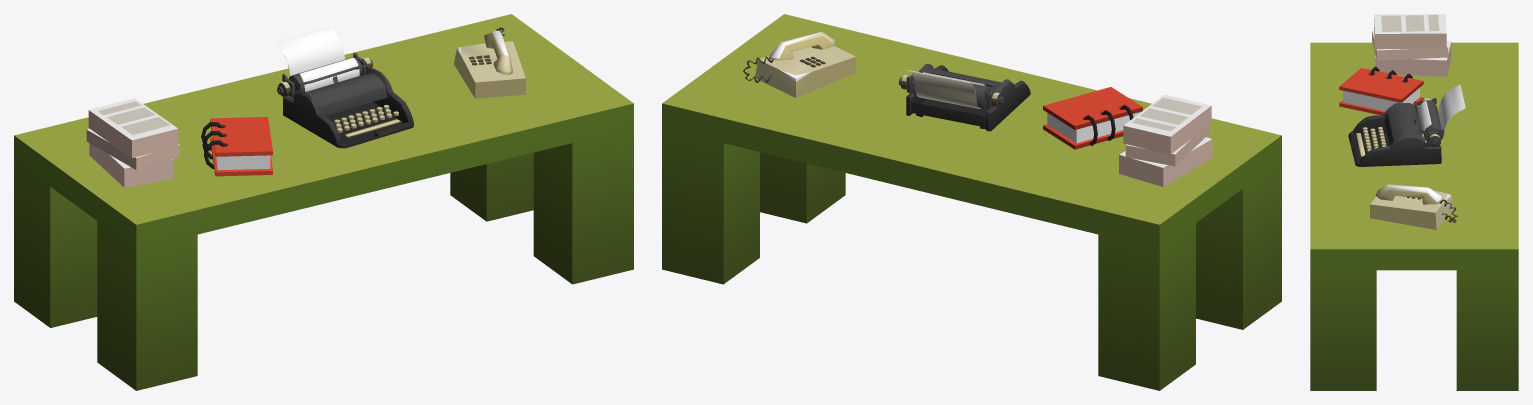
Rendered from Reception.fbx.
The picture shows the model from 3 angles, left to right: view 1: azimuth 30°, elevation 25°; view 2: azimuth 150°, elevation 25°; view 3: azimuth 270°, elevation 25°; orthographic projection. The views are drawn at different scales.
Visible parts, largest first — view 1: Table, TypeWritter, Papers, Book, Phone; view 2: Table, Papers, TypeWritter, Phone, Book; view 3: Table, TypeWritter, Papers, Phone, Book.
Part boxes in pixels (left/top/right/bottom): Table: left=14, top=14, right=633, bottom=390; TypeWritter: left=277, top=26, right=413, bottom=148; Papers: left=86, top=98, right=179, bottom=187; Book: left=201, top=117, right=272, bottom=176; Phone: left=454, top=27, right=525, bottom=98; Table: left=662, top=14, right=1281, bottom=390; Papers: left=1119, top=94, right=1212, bottom=186; TypeWritter: left=899, top=63, right=1030, bottom=131; Phone: left=743, top=32, right=855, bottom=97; Book: left=1043, top=87, right=1142, bottom=149; Table: left=1310, top=42, right=1518, bottom=390; TypeWritter: left=1348, top=84, right=1465, bottom=166; Papers: left=1372, top=14, right=1451, bottom=76; Phone: left=1370, top=184, right=1457, bottom=229; Book: left=1339, top=66, right=1423, bottom=115.
Size of the model in its own units: 258 by 113 by 110.
